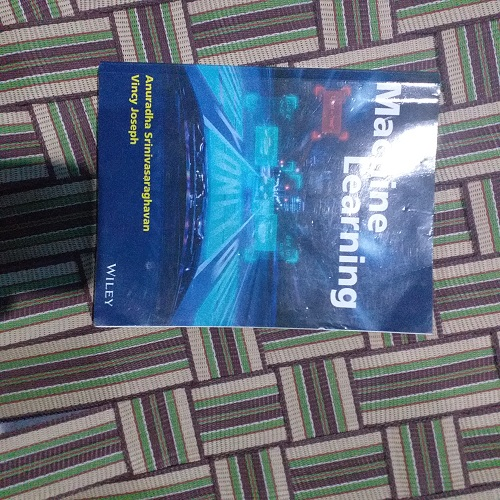book: (78, 50, 454, 359)
